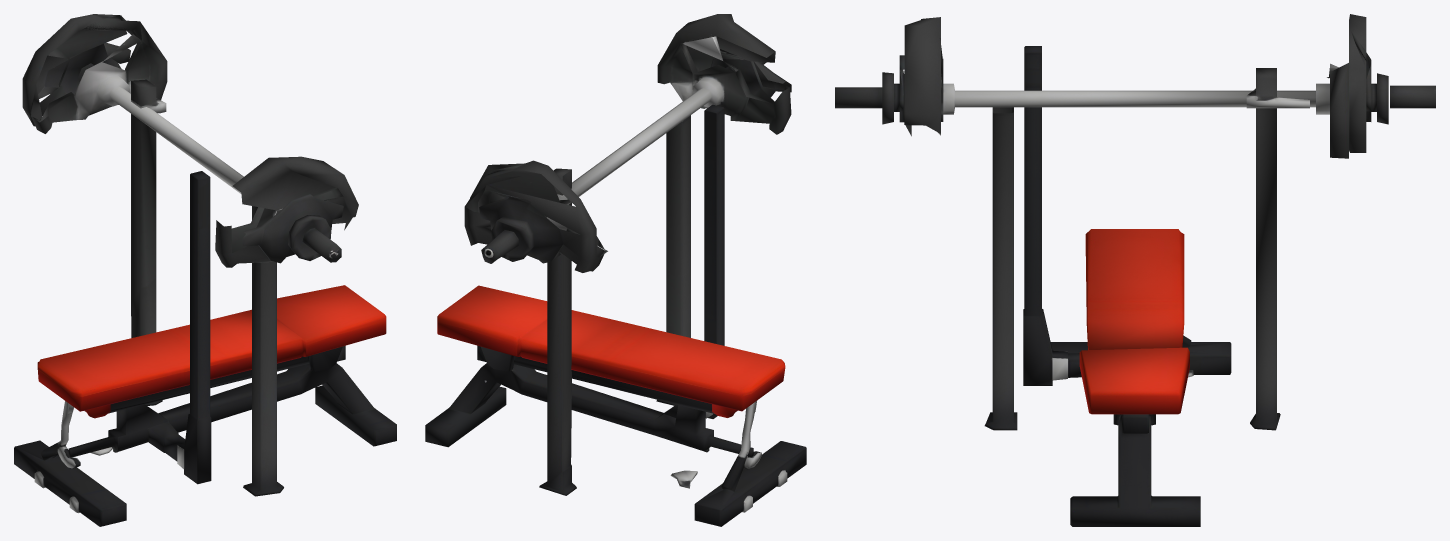
File: gym_bench_press.glb
3 views of the same model, side by side, from view 1: azimuth 30°, elevation 25°; view 2: azimuth 150°, elevation 25°; view 3: azimuth 270°, elevation 25° (orthographic). The views are drawn at different scales.
Visible parts, largest first — view 1: tripo_node_ca7eb4bd-a00a-46d8-b2a1-c9cb2259bb85; view 2: tripo_node_ca7eb4bd-a00a-46d8-b2a1-c9cb2259bb85; view 3: tripo_node_ca7eb4bd-a00a-46d8-b2a1-c9cb2259bb85.
Part boxes in pixels (x1,y1,x2,y2): tripo_node_ca7eb4bd-a00a-46d8-b2a1-c9cb2259bb85: (14,14,396,526); tripo_node_ca7eb4bd-a00a-46d8-b2a1-c9cb2259bb85: (425,14,806,526); tripo_node_ca7eb4bd-a00a-46d8-b2a1-c9cb2259bb85: (835,14,1435,526).
Bounding box in the file's own units: 0.6634 × 0.7613 × 1.
Materials: 1 (1 with a texture image).
